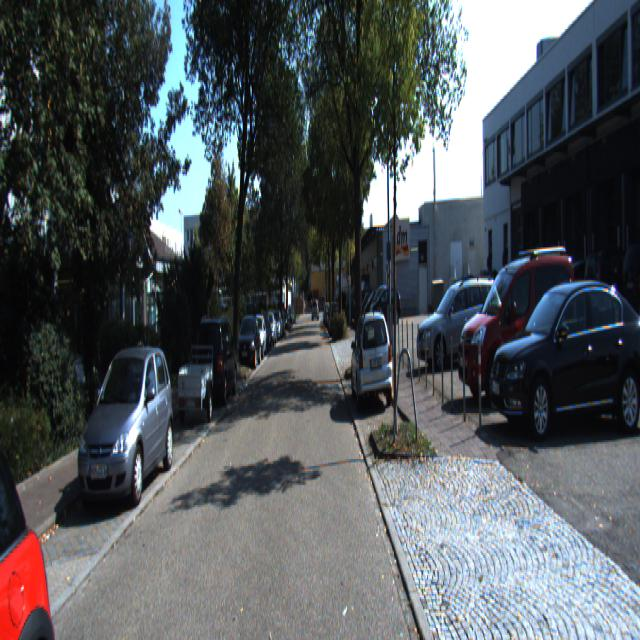Car: (484, 275, 640, 440), (455, 235, 586, 402), (78, 340, 176, 516), (0, 415, 74, 638), (415, 273, 502, 374), (349, 304, 395, 416), (582, 246, 640, 328), (196, 313, 237, 407), (174, 357, 214, 426), (236, 313, 261, 371)
